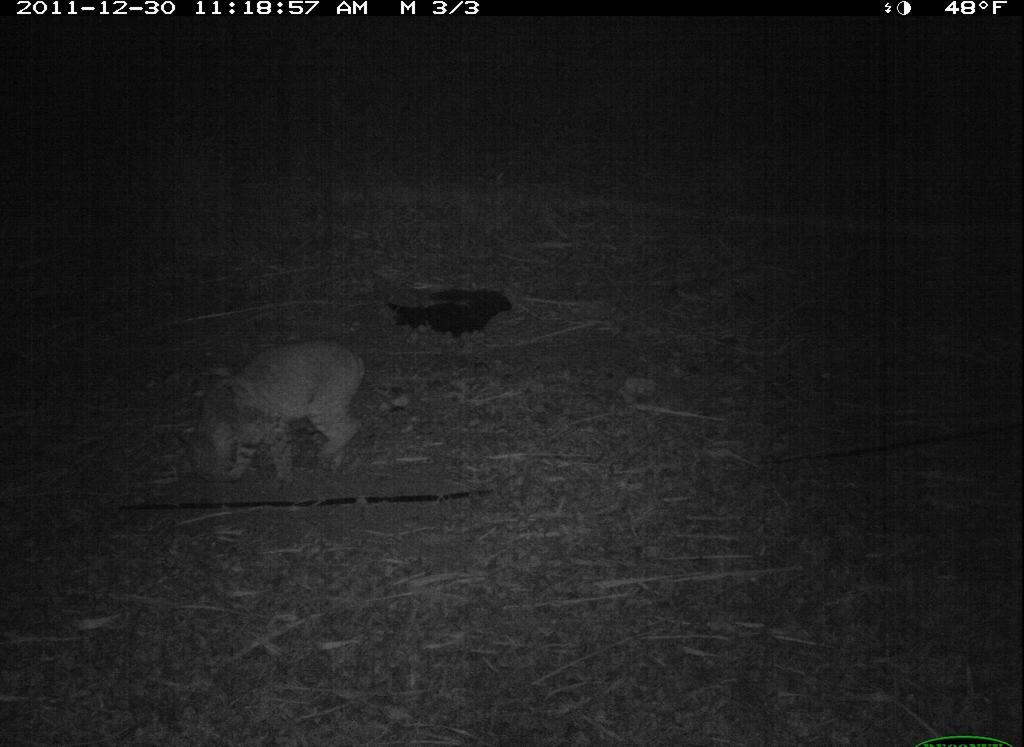bobcat: (172, 331, 381, 493)
